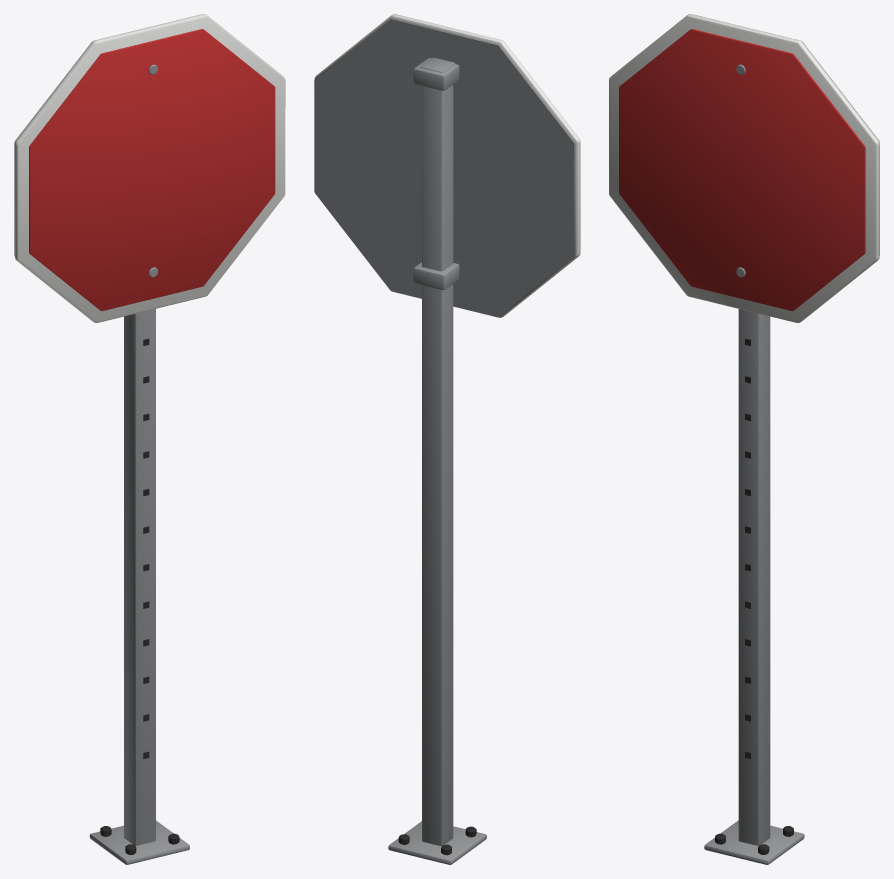
The model's file is StopSign.fbx.
The picture shows the model from 3 angles, left to right: view 1: azimuth 30°, elevation 25°; view 2: azimuth 150°, elevation 25°; view 3: azimuth 330°, elevation 25°; orthographic projection.
Parts seen in each view (by area): view 1: StopSign_Mesh; view 2: StopSign_Mesh; view 3: StopSign_Mesh.
Boxes of the visible parts, <box> form: StopSign_Mesh: <box>14,14,285,864</box>; StopSign_Mesh: <box>314,14,580,864</box>; StopSign_Mesh: <box>609,14,879,864</box>.
Bounding box in the file's own units: 0.75 × 2.19 × 0.18.
